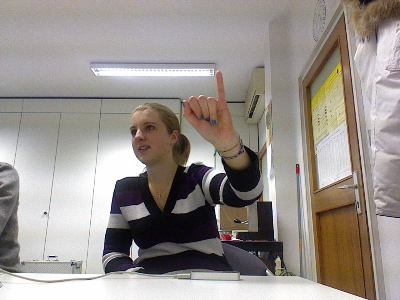小指: (180, 70, 240, 151)
